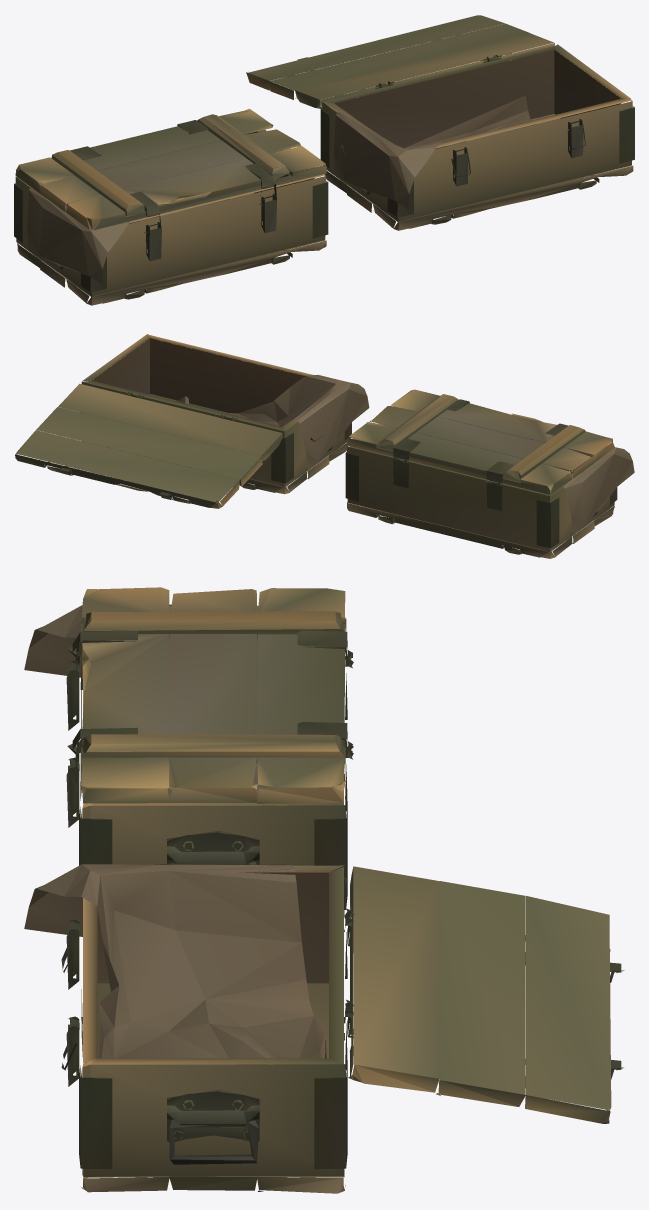
Rendered from crate_military.glb.
The picture shows the model from 3 angles, top to bottom: view 1: azimuth 30°, elevation 25°; view 2: azimuth 150°, elevation 25°; view 3: azimuth 270°, elevation 25°; orthographic projection. The views are drawn at different scales.
Visible parts, largest first — view 1: crate_military; view 2: crate_military; view 3: crate_military.
Part boxes in pixels (left/top/right/bottom): crate_military: left=14, top=15, right=634, bottom=305; crate_military: left=15, top=334, right=634, bottom=558; crate_military: left=24, top=587, right=624, bottom=1193.
Size of the model in its own units: 1.81 by 0.3005 by 0.9802.
